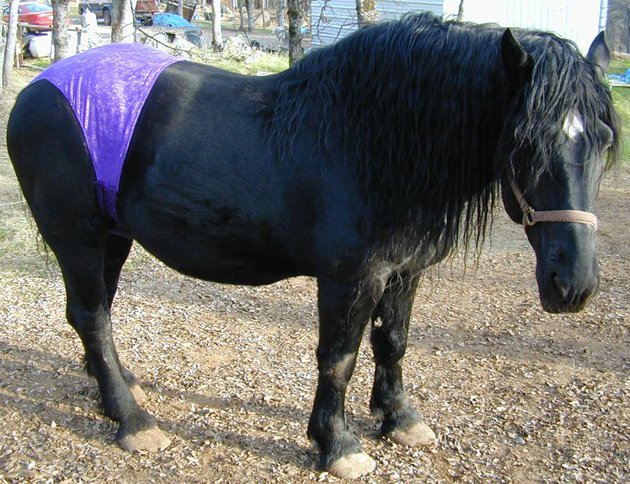Horse: (12, 5, 605, 463)
